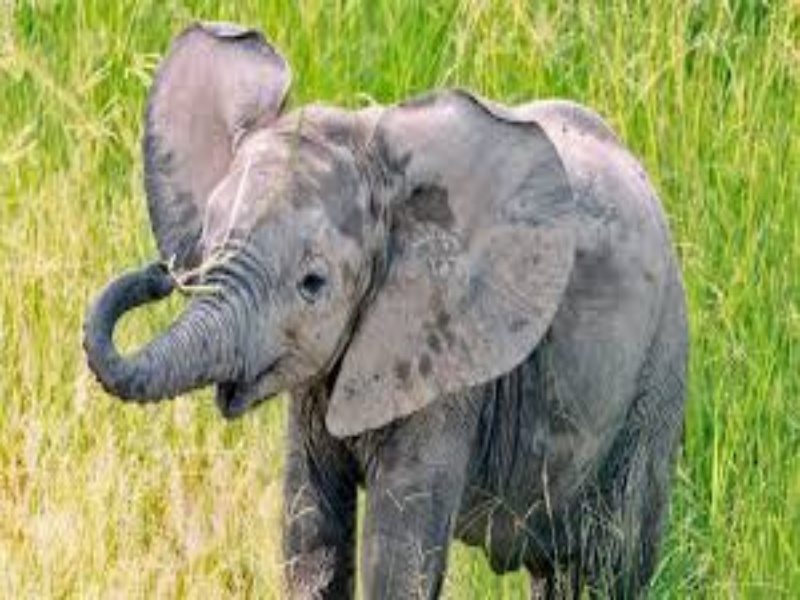elephant: (68, 39, 728, 595)
